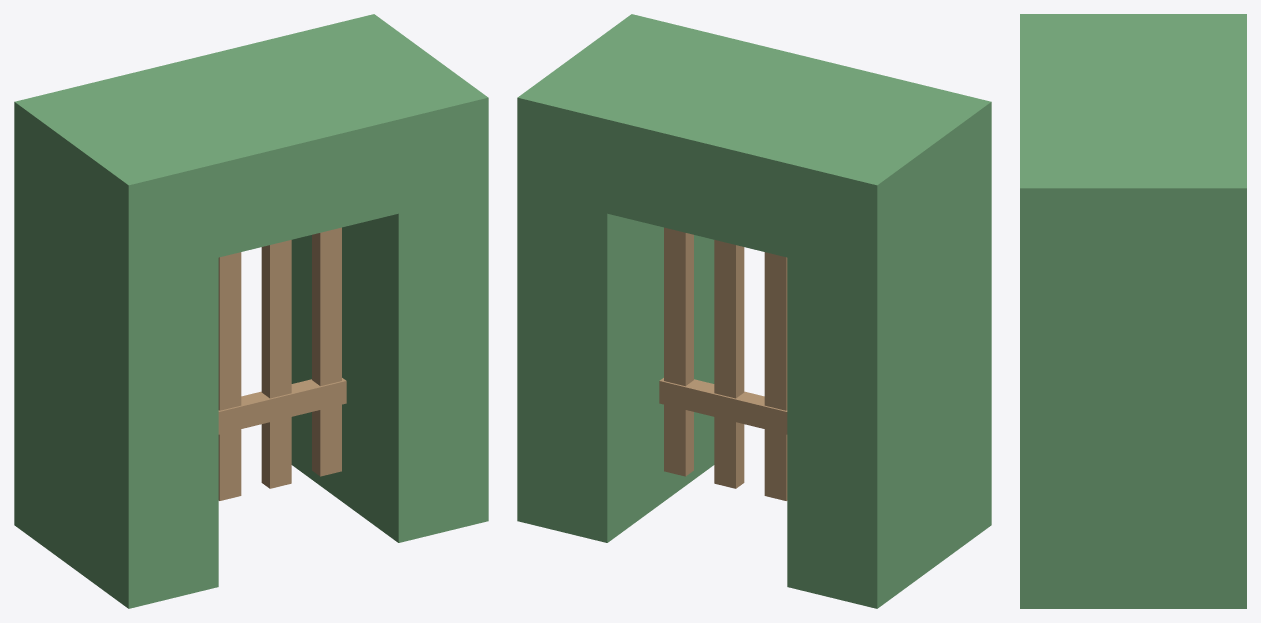
Rendered from fence_hedge_gate.glb.
3 views of the same model, side by side, from view 1: azimuth 30°, elevation 25°; view 2: azimuth 150°, elevation 25°; view 3: azimuth 270°, elevation 25° (orthographic).
Visible parts, largest first — view 1: fence, gate_leaf; view 2: fence, gate_leaf; view 3: fence.
Part boxes in pixels (x1,y1,x2,y2): fence: (14,14,488,608); gate_leaf: (218,227,346,500); fence: (517,14,991,608); gate_leaf: (659,227,787,500); fence: (1020,14,1246,608).
Bounding box in the file's own units: 1 × 1.12 × 0.55.
